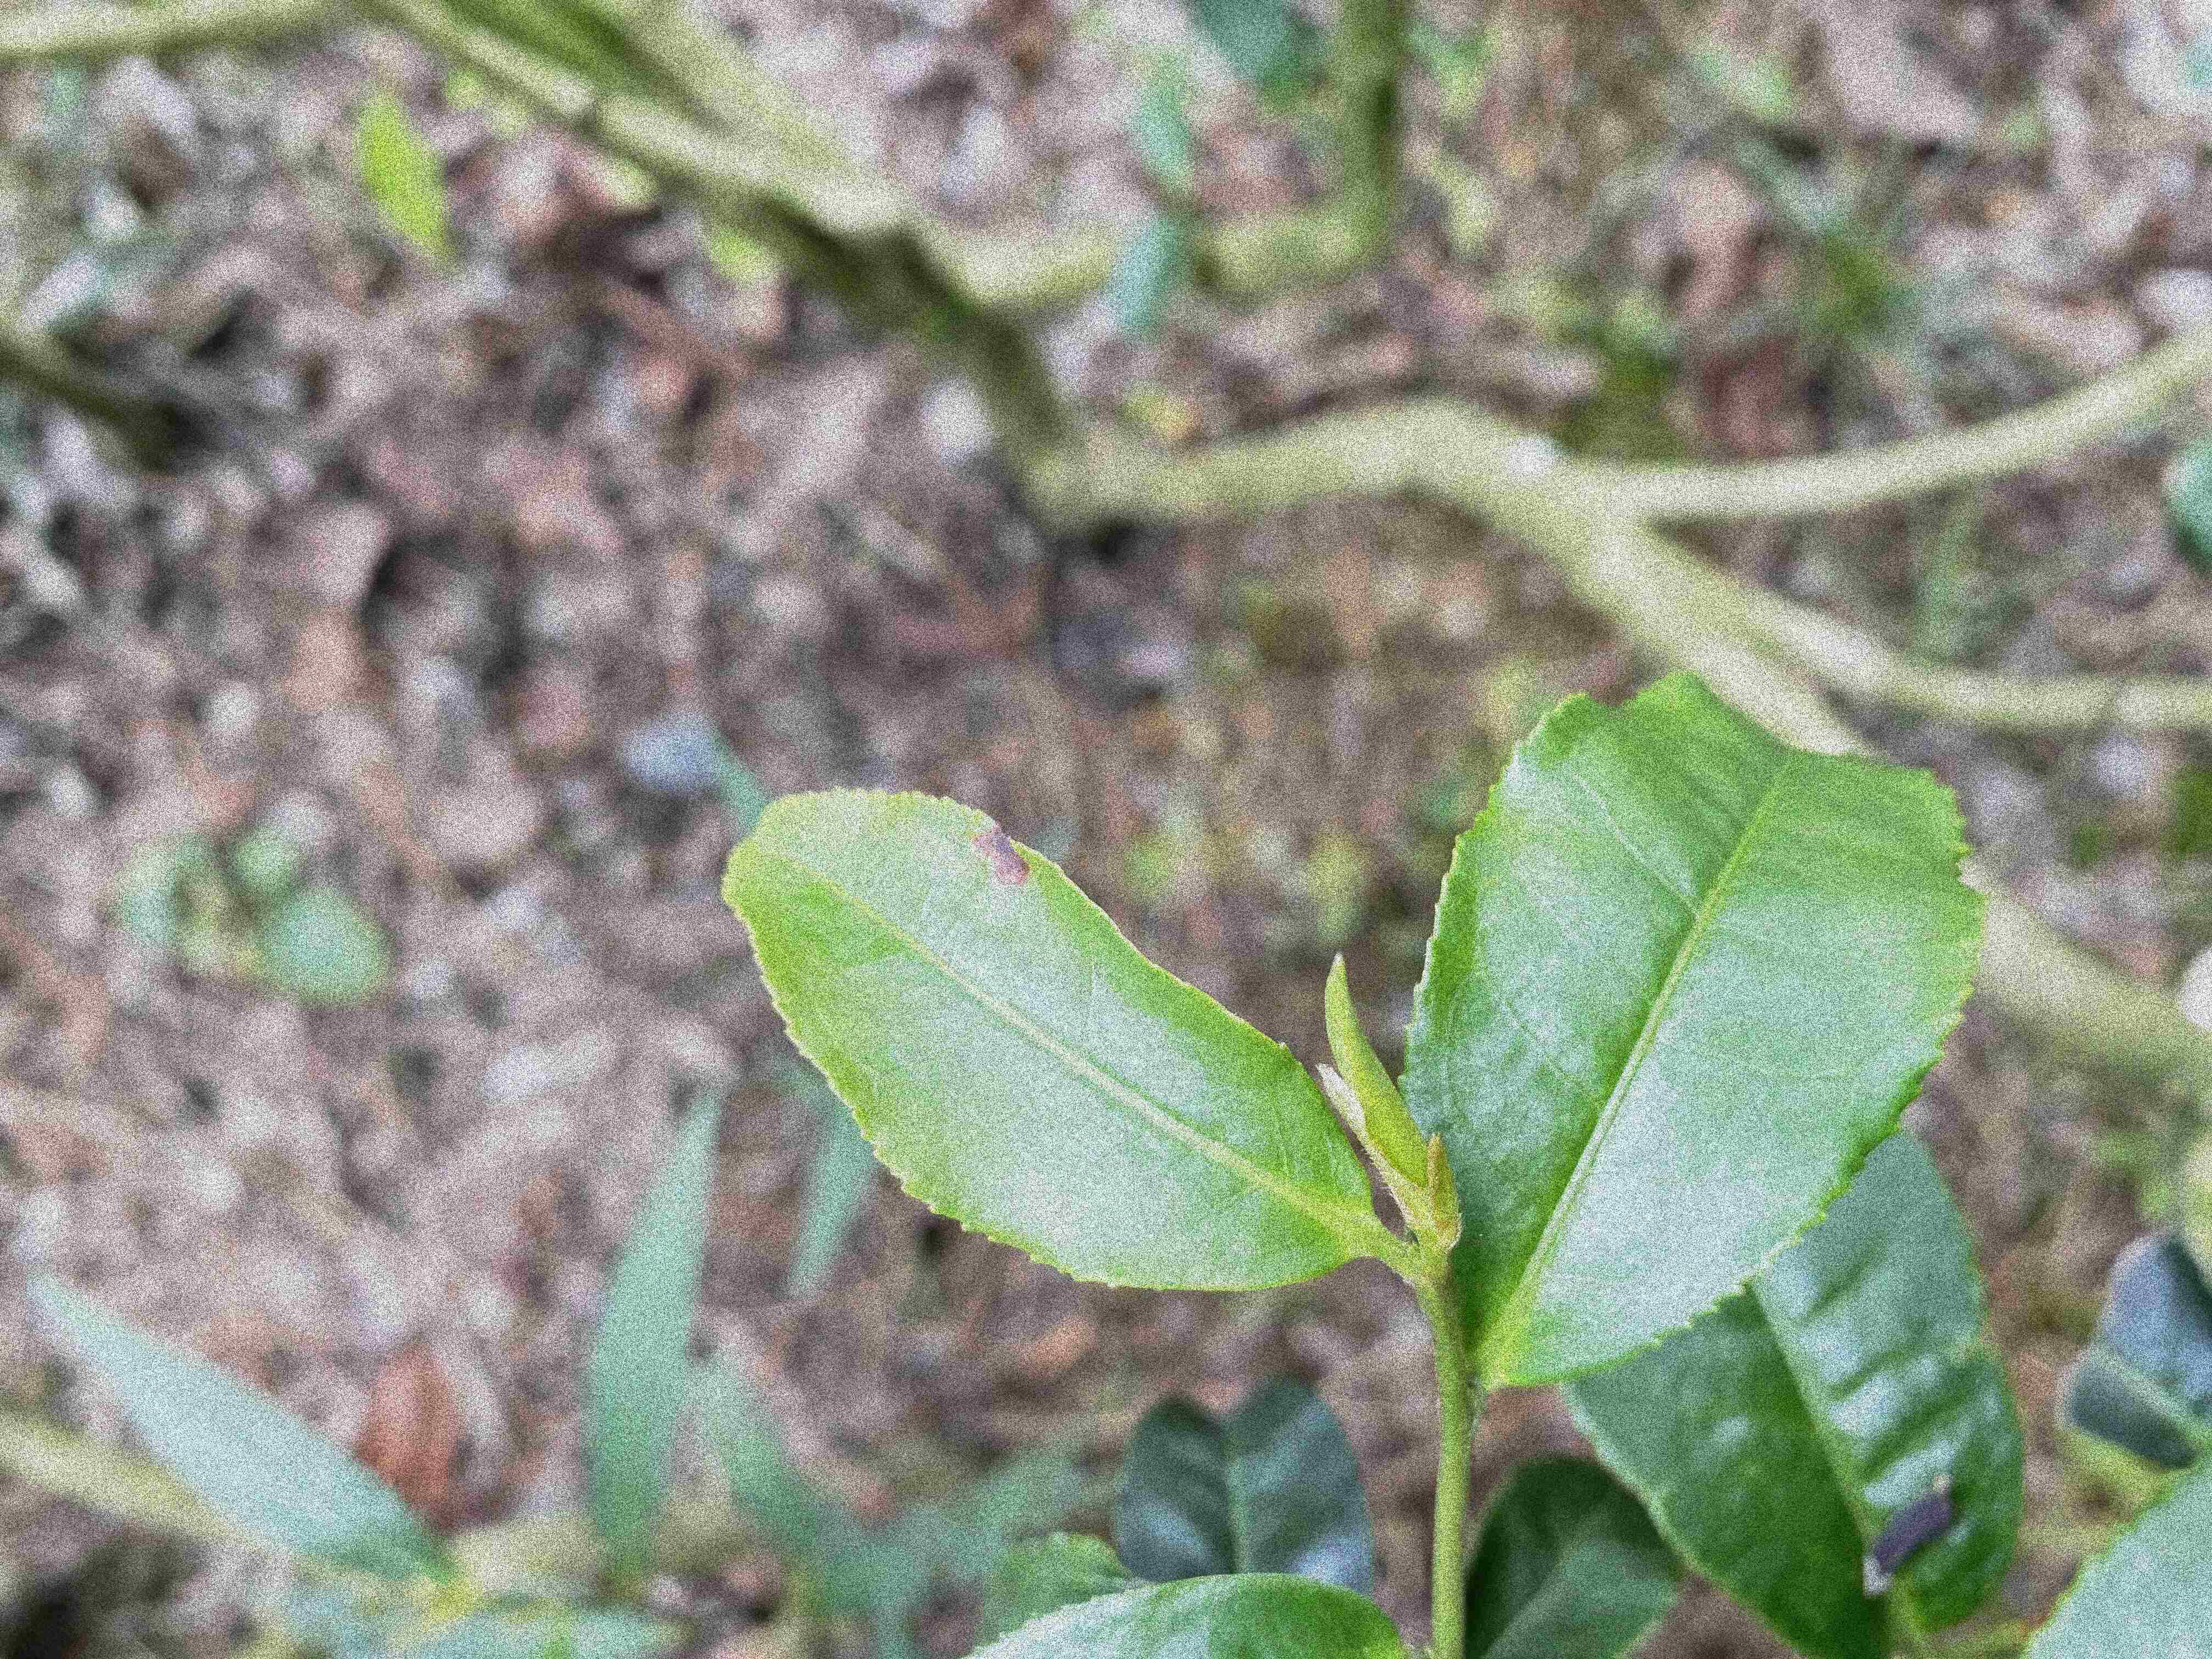healthy: (1399, 666, 1993, 1387)
tanju_high: (718, 784, 1379, 1291)
